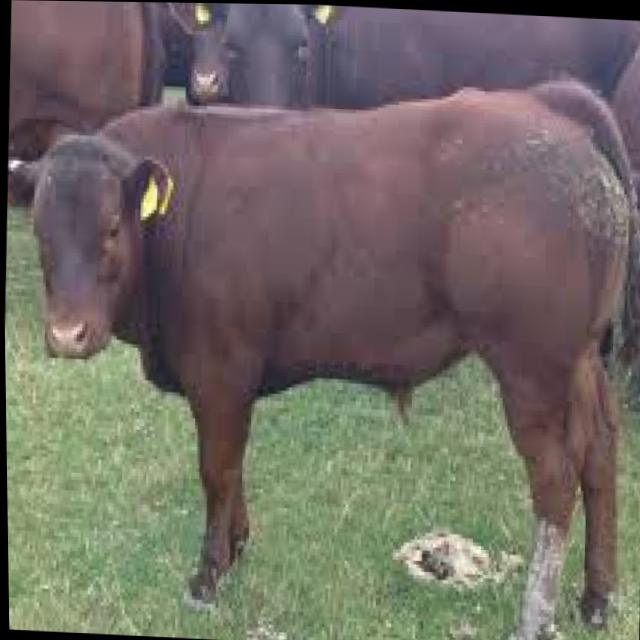cowFace: (1, 92, 184, 374)
